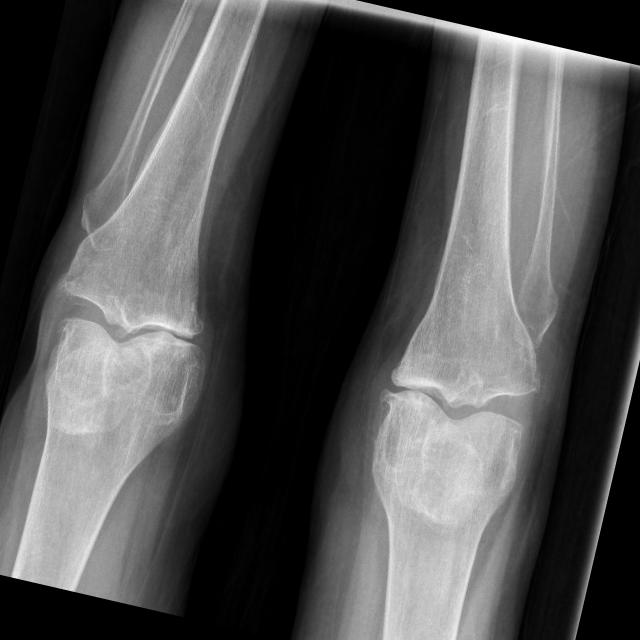Knee: (32, 234, 230, 425), (369, 310, 551, 498)
